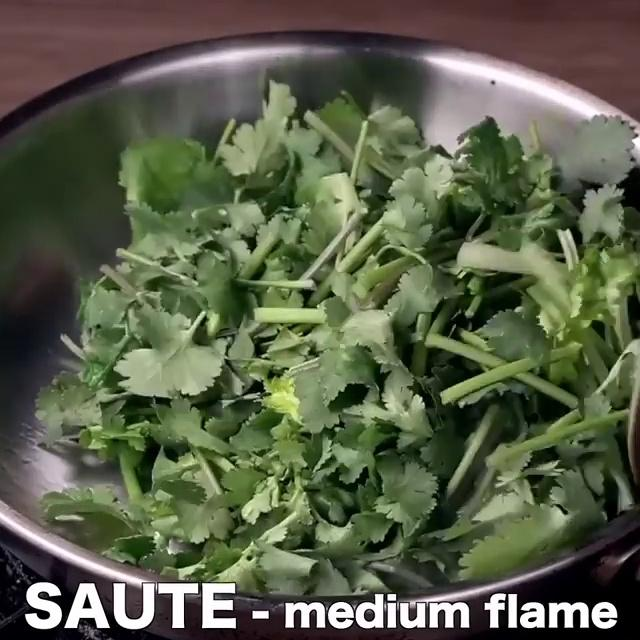cilantro: (91, 108, 631, 555)
